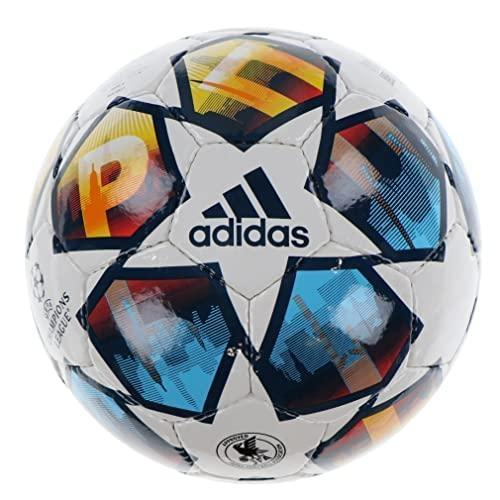Sports-Ball: (19, 13, 486, 484)
